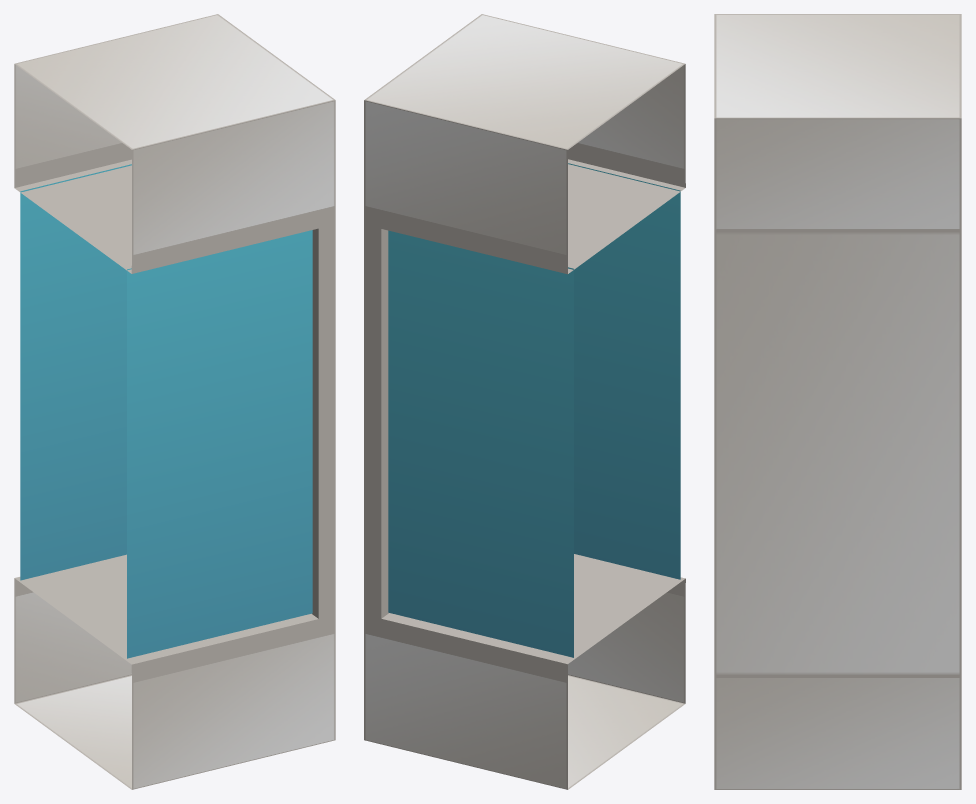
The model's file is scene_window_left.fbx.
The picture shows the model from 3 angles, left to right: view 1: azimuth 30°, elevation 25°; view 2: azimuth 150°, elevation 25°; view 3: azimuth 270°, elevation 25°; orthographic projection. The views are drawn at different scales.
Visible parts, largest first — view 1: mesh_wall_window_left, mesh_alpha; view 2: mesh_wall_window_left, mesh_alpha; view 3: mesh_wall_window_left.
Boxes of the visible parts, <box> form: mesh_wall_window_left: <box>14,14,335,789</box>; mesh_alpha: <box>20,164,312,658</box>; mesh_wall_window_left: <box>364,14,685,789</box>; mesh_alpha: <box>388,163,680,657</box>; mesh_wall_window_left: <box>714,14,961,789</box>.
Bounding box in the file's own units: 1 × 3 × 1.
Materials: 2 (1 with a texture image).
